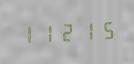five: (94, 18, 112, 41)
one: (18, 22, 36, 45), (37, 21, 55, 44), (75, 19, 93, 42)
two: (56, 20, 74, 43)
